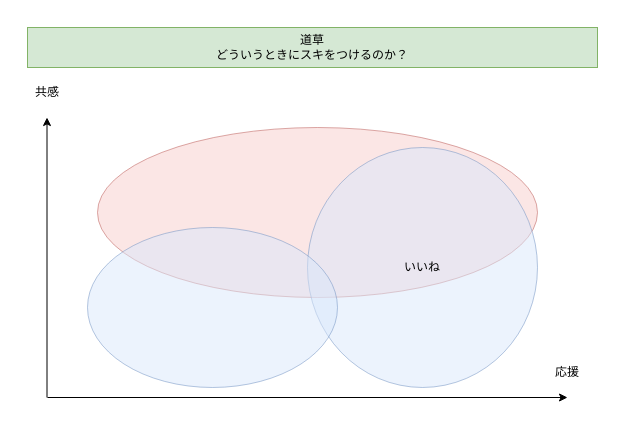
Image size: 624x424. Some labels were removed from this diagram. The box of each missing label's shape, as (x1, y1, x2, y2) in pixels:
スキ: (96, 126, 538, 298)
ストック: (86, 226, 338, 388)
